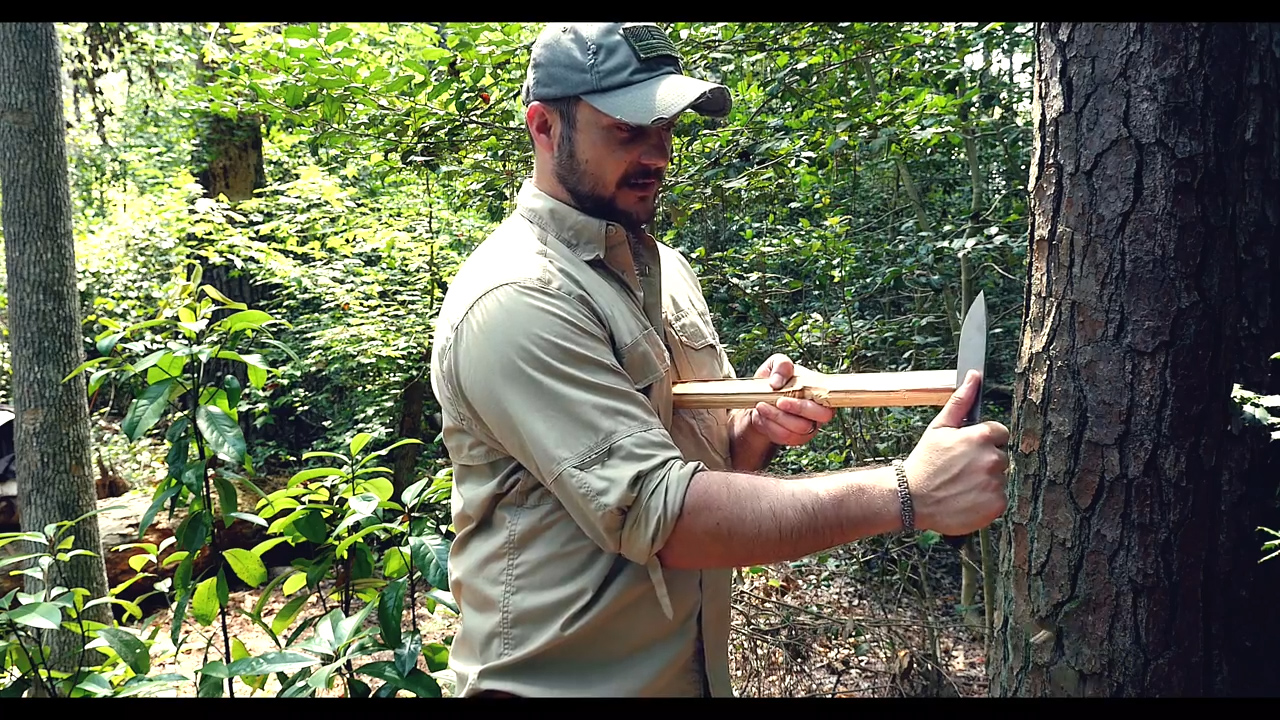knife: (919, 279, 1023, 544)
